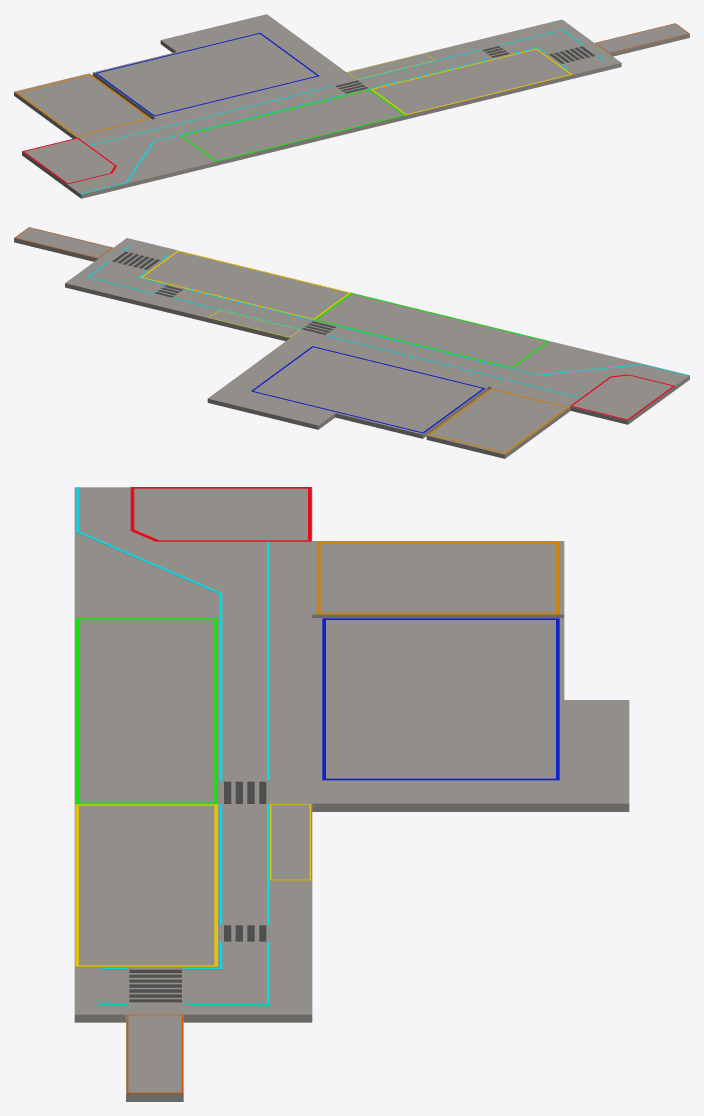
The model's file is plattegrond.glb.
The picture shows the model from 3 angles, top to bottom: view 1: azimuth 30°, elevation 25°; view 2: azimuth 150°, elevation 25°; view 3: azimuth 270°, elevation 25°; orthographic projection. The views are drawn at different scales.
Parts seen in each view (by area): view 1: Plattegrond, Richtlijnen, Zone 1, Zebrapad, Zone 2, Zone 4, Zone 5, Zone 3; view 2: Plattegrond, Richtlijnen, Zone 1, Zebrapad, Zone 2, Zone 4, Zone 5, Zone 3; view 3: Plattegrond, Richtlijnen, Zebrapad, Zone 1, Zone 2, Zone 4, Zone 5, Zone 3.
Part boxes in pixels (x1=…): Plattegrond: x1=14, y1=14, x2=689, y2=198; Richtlijnen: x1=80, y1=29, x2=604, y2=196; Zone 1: x1=95, y1=32, x2=319, y2=116; Zebrapad: x1=336, y1=46, x2=595, y2=93; Zone 2: x1=180, y1=89, x2=405, y2=161; Zone 4: x1=370, y1=48, x2=571, y2=115; Zone 5: x1=16, y1=74, x2=150, y2=136; Zone 3: x1=22, y1=137, x2=116, y2=184; Plattegrond: x1=14, y1=227, x2=689, y2=458; Richtlijnen: x1=87, y1=245, x2=689, y2=397; Zone 1: x1=251, y1=346, x2=484, y2=433; Zebrapad: x1=112, y1=251, x2=335, y2=334; Zone 2: x1=314, y1=293, x2=549, y2=368; Zone 4: x1=141, y1=250, x2=350, y2=319; Zone 5: x1=428, y1=388, x2=568, y2=453; Zone 3: x1=570, y1=374, x2=674, y2=420; Plattegrond: x1=74, y1=487, x2=629, y2=1101; Richtlijnen: x1=76, y1=487, x2=269, y2=1004; Zebrapad: x1=129, y1=781, x2=266, y2=1002; Zone 1: x1=322, y1=618, x2=559, y2=780; Zone 2: x1=75, y1=618, x2=217, y2=804; Zone 4: x1=75, y1=804, x2=217, y2=966; Zone 5: x1=317, y1=541, x2=559, y2=614; Zone 3: x1=130, y1=487, x2=311, y2=541.
Size of the model in its own units: 55.6 by 0.3594 by 21.47.
